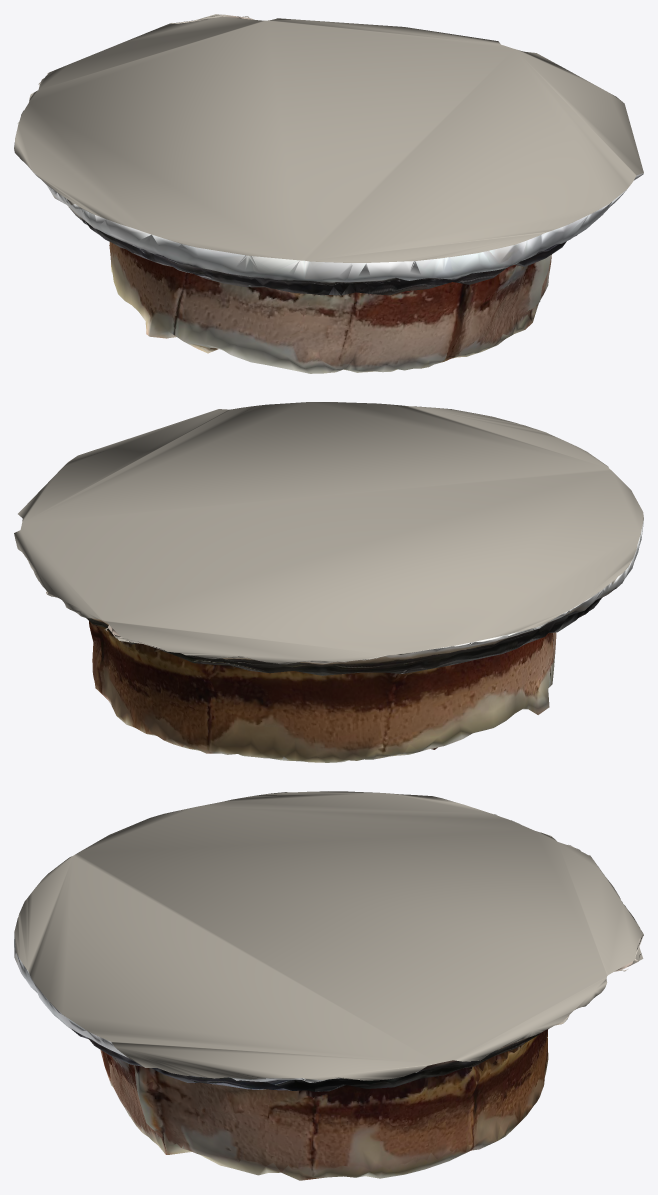
Rendered from cake_4650.obj.
3 renders of one model, top to bottom at view 1: azimuth 30°, elevation 25°; view 2: azimuth 150°, elevation 25°; view 3: azimuth 270°, elevation 25°, orthographic. The views are drawn at different scales.
Bounding box in the file's own units: 0.1761 × 0.0562 × 0.1767.
1 material, 1 textured.
